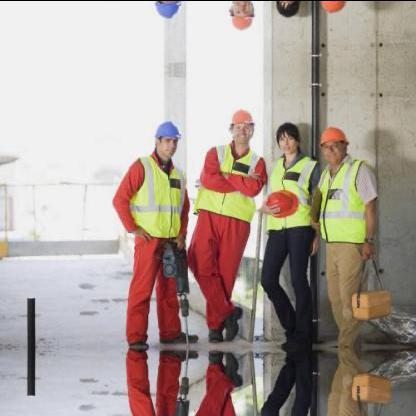Helmet: (151, 114, 182, 162), (316, 121, 350, 164), (225, 102, 254, 148), (225, 0, 256, 35), (150, 0, 182, 22), (315, 0, 351, 16)
No Helmet: (274, 119, 304, 155), (274, 0, 304, 18)
